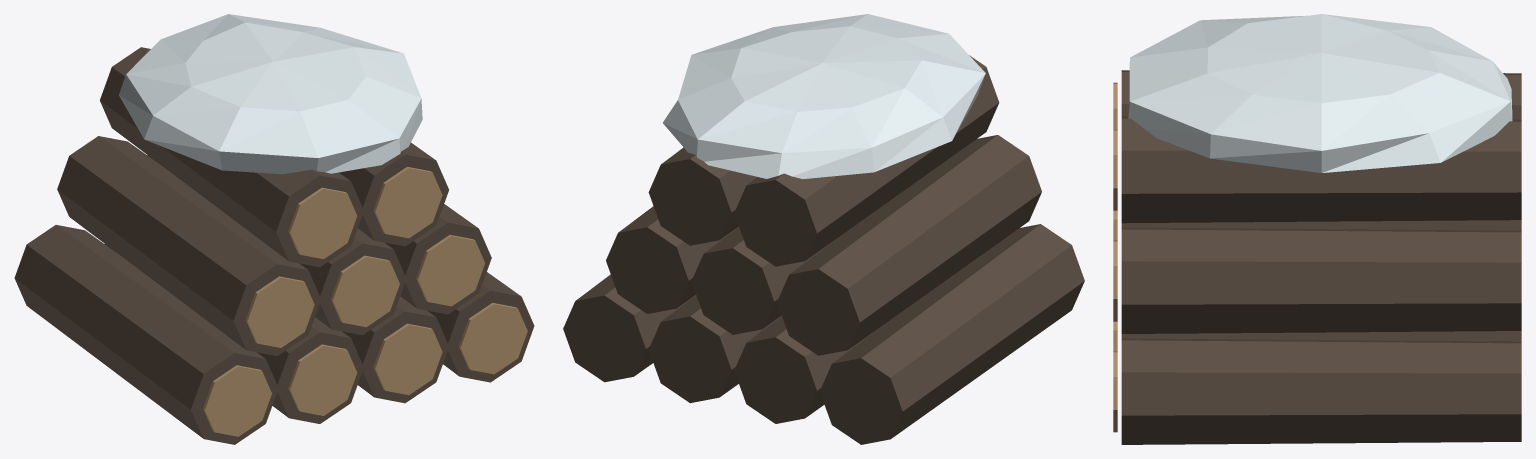
The model's file is PROP_11_FirewoodStackSnowy.glb.
3 renders of one model, left to right at view 1: azimuth 30°, elevation 25°; view 2: azimuth 150°, elevation 25°; view 3: azimuth 270°, elevation 25°, orthographic. The views are drawn at different scales.
Parts seen in each view (by area): view 1: PROP_11_FirewoodStackSnowy; view 2: PROP_11_FirewoodStackSnowy; view 3: PROP_11_FirewoodStackSnowy.
Boxes of the visible parts, x1=… form: PROP_11_FirewoodStackSnowy: x1=14, y1=14, x2=534, y2=444; PROP_11_FirewoodStackSnowy: x1=563, y1=14, x2=1084, y2=444; PROP_11_FirewoodStackSnowy: x1=1113, y1=14, x2=1521, y2=444.
Bounding box in the file's own units: 1.33 × 1.06 × 1.23.
